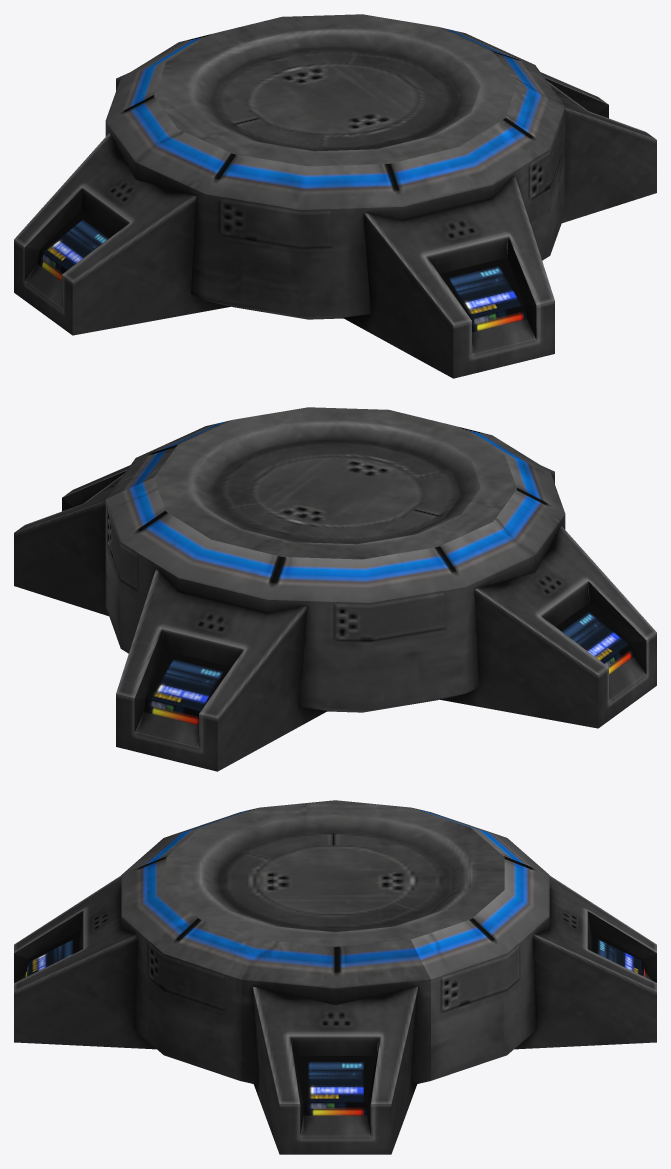
The model's file is SciFi_Land-Mine.FBX.
3 renders of one model, top to bottom at view 1: azimuth 30°, elevation 25°; view 2: azimuth 150°, elevation 25°; view 3: azimuth 270°, elevation 25°, orthographic. The views are drawn at different scales.
Parts seen in each view (by area): view 1: SciFi_Land-Mine; view 2: SciFi_Land-Mine; view 3: SciFi_Land-Mine.
Part boxes in pixels (<box>): SciFi_Land-Mine: <box>14,14,656,378</box>; SciFi_Land-Mine: <box>14,407,656,771</box>; SciFi_Land-Mine: <box>14,800,656,1154</box>.
Size of the model in its own units: 207 by 51.86 by 207.
